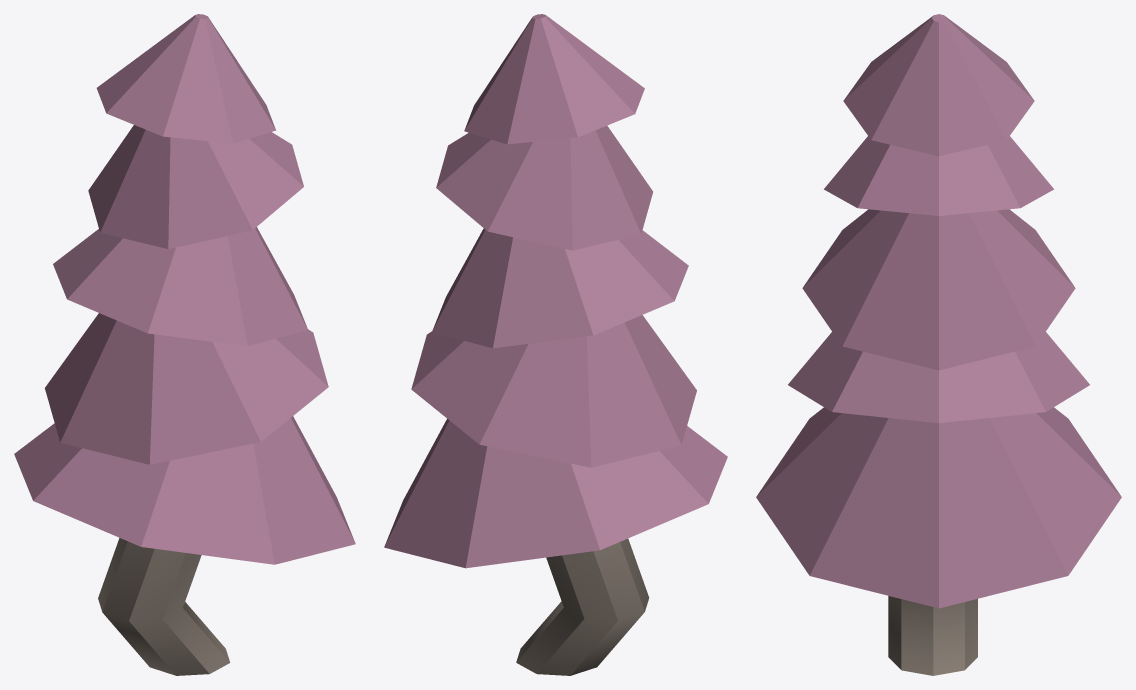
File: AssetPinoLRosa.fbx
The picture shows the model from 3 angles, left to right: view 1: azimuth 30°, elevation 25°; view 2: azimuth 150°, elevation 25°; view 3: azimuth 270°, elevation 25°; orthographic projection.
Visible parts, largest first — view 1: pasted__pCylinder23, pasted__pCylinder24; view 2: pasted__pCylinder23, pasted__pCylinder24; view 3: pasted__pCylinder23, pasted__pCylinder24.
Boxes of the visible parts, x1=… form: pasted__pCylinder23: x1=14, y1=14, x2=355, y2=564; pasted__pCylinder24: x1=98, y1=538, x2=230, y2=675; pasted__pCylinder23: x1=384, y1=14, x2=727, y2=568; pasted__pCylinder24: x1=516, y1=538, x2=649, y2=675; pasted__pCylinder23: x1=756, y1=14, x2=1121, y2=608; pasted__pCylinder24: x1=888, y1=596, x2=977, y2=675.
Size of the model in its own units: 4.02 by 8.04 by 4.11.
